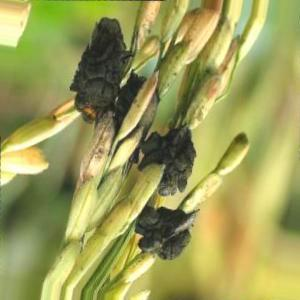Leaf_Scald: (77, 18, 124, 124), (143, 207, 189, 268), (146, 128, 188, 194)
